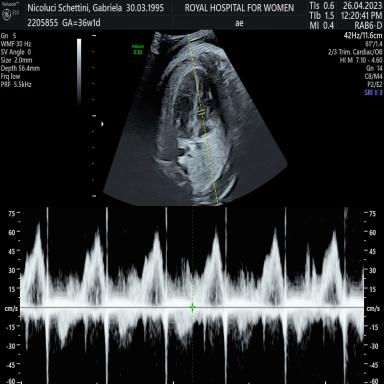Ultrasound-Waves: (23, 209, 362, 381)
